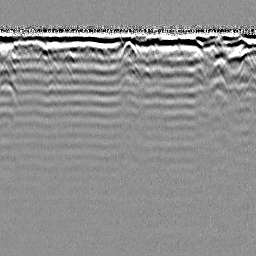cavity: (117, 40, 140, 61)
